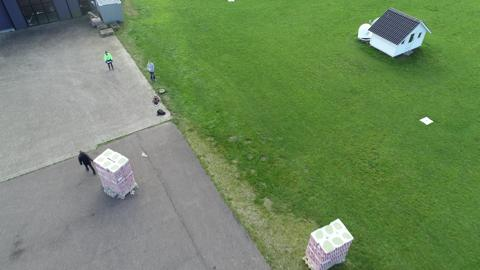RockwoolPallet: (94, 144, 135, 201)
